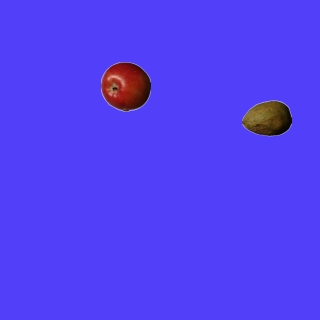Apple Braeburn: (100, 61, 150, 111)
Papaya: (241, 93, 291, 143)
